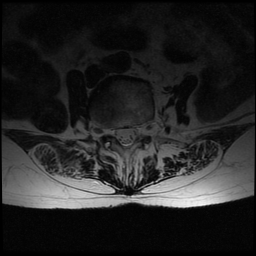CCS_normal: (123, 117, 130, 155)
LFS_normal: (139, 115, 148, 144)
LLS_normal: (130, 117, 139, 150)
RFS_normal: (105, 117, 114, 143)
RLS_normal: (114, 118, 123, 150)
